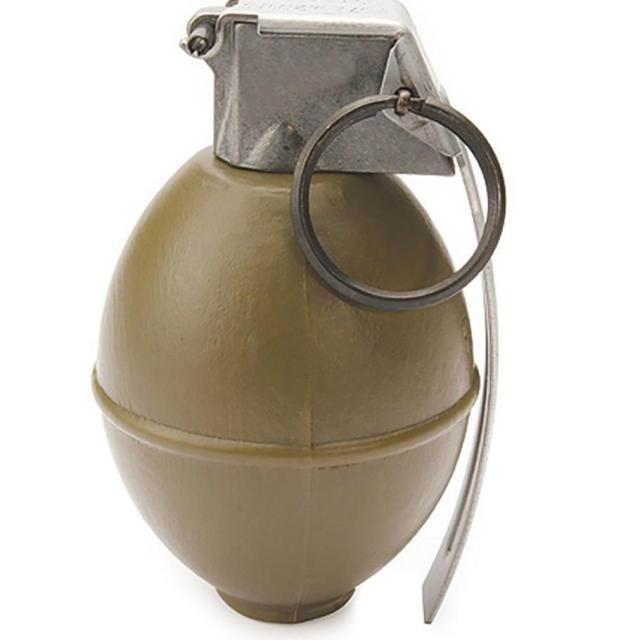grenade: (92, 1, 509, 627)
